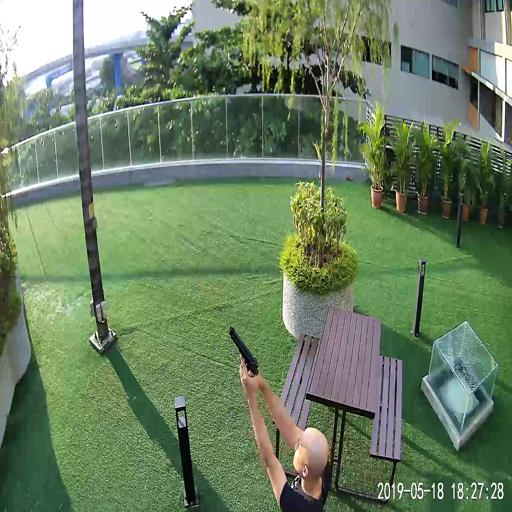pistol: (228, 326, 258, 393)
